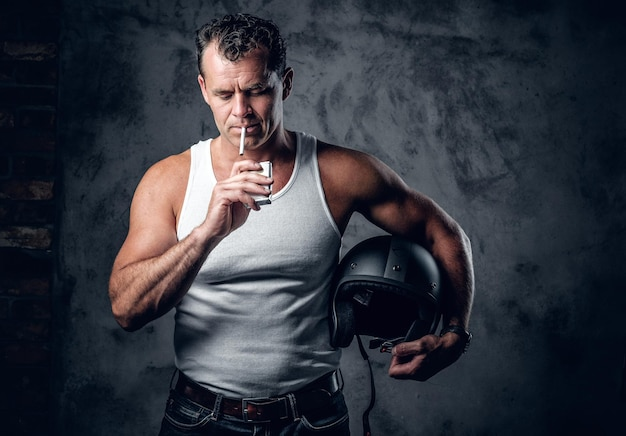cigarette: (237, 125, 247, 157)
